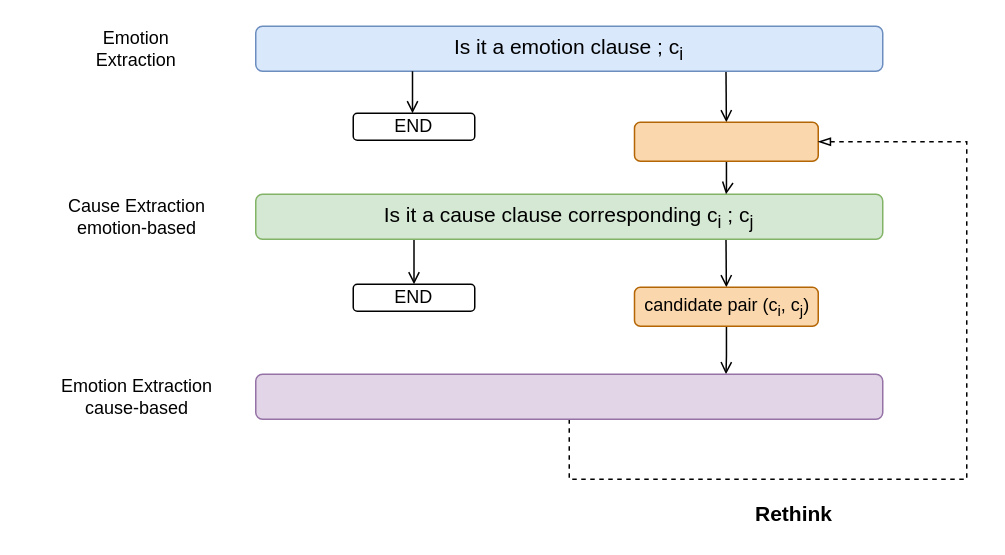
This 1005x555 diagram has some shape labels left out. Each missing label, with the box of its shape:
emotion clause c i: (633, 121, 818, 161)
Is it a emotion clause corresponding c j ; c i: (254, 373, 883, 419)
